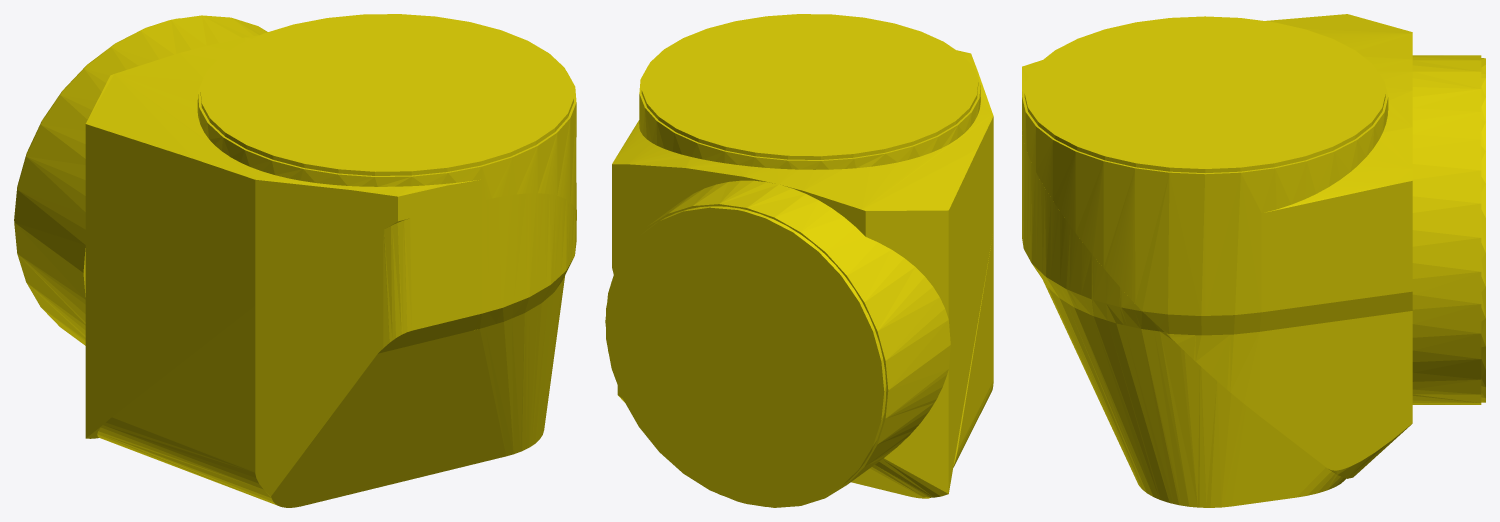
Rendered from shoulder_link.dae.
The picture shows the model from 3 angles, left to right: view 1: azimuth 30°, elevation 25°; view 2: azimuth 150°, elevation 25°; view 3: azimuth 270°, elevation 25°; orthographic projection. The views are drawn at different scales.
Parts seen in each view (by area): view 1: node; view 2: node; view 3: node.
Boxes of the visible parts, x1,y1,x2,y2 form: node: [14, 14, 576, 507]; node: [605, 14, 993, 507]; node: [1022, 14, 1485, 507].
Bounding box in the file's own units: 0.54 × 0.468 × 0.57.
